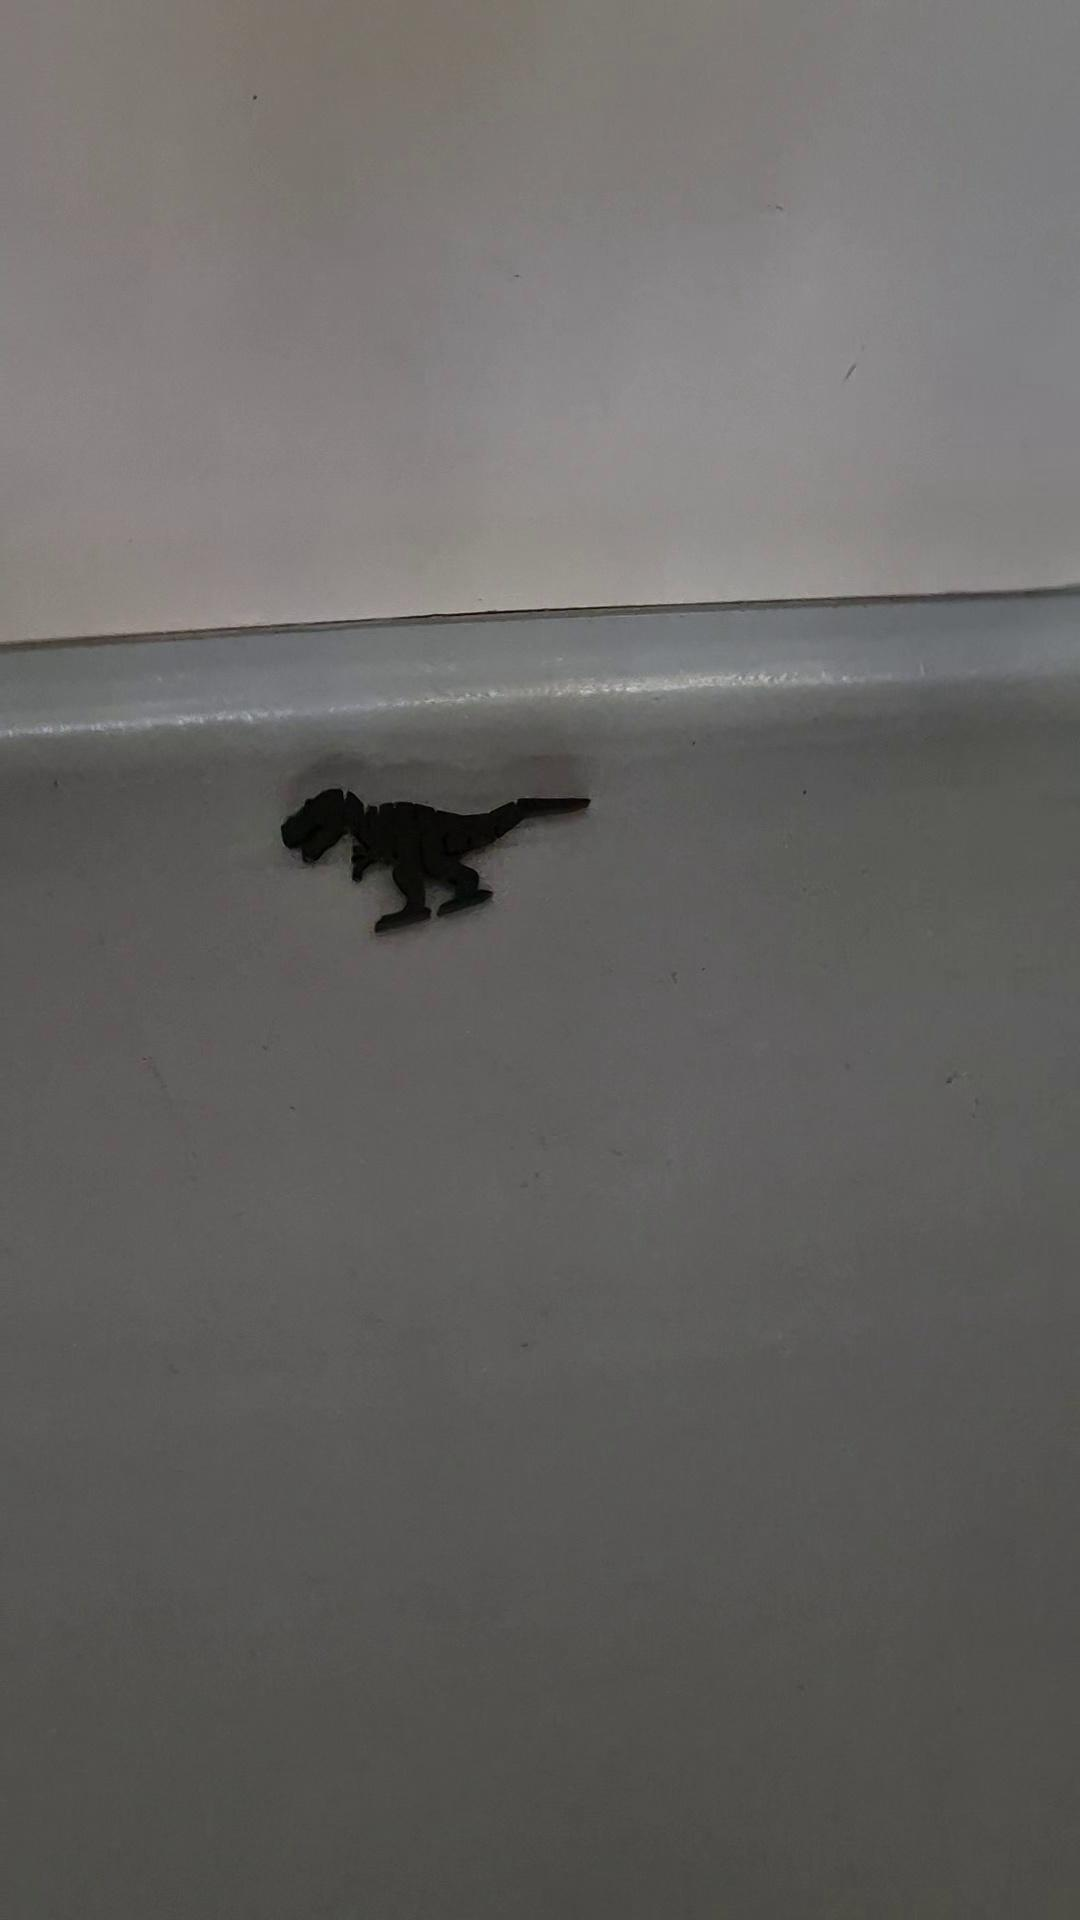dinosaur: (280, 786, 592, 935)
